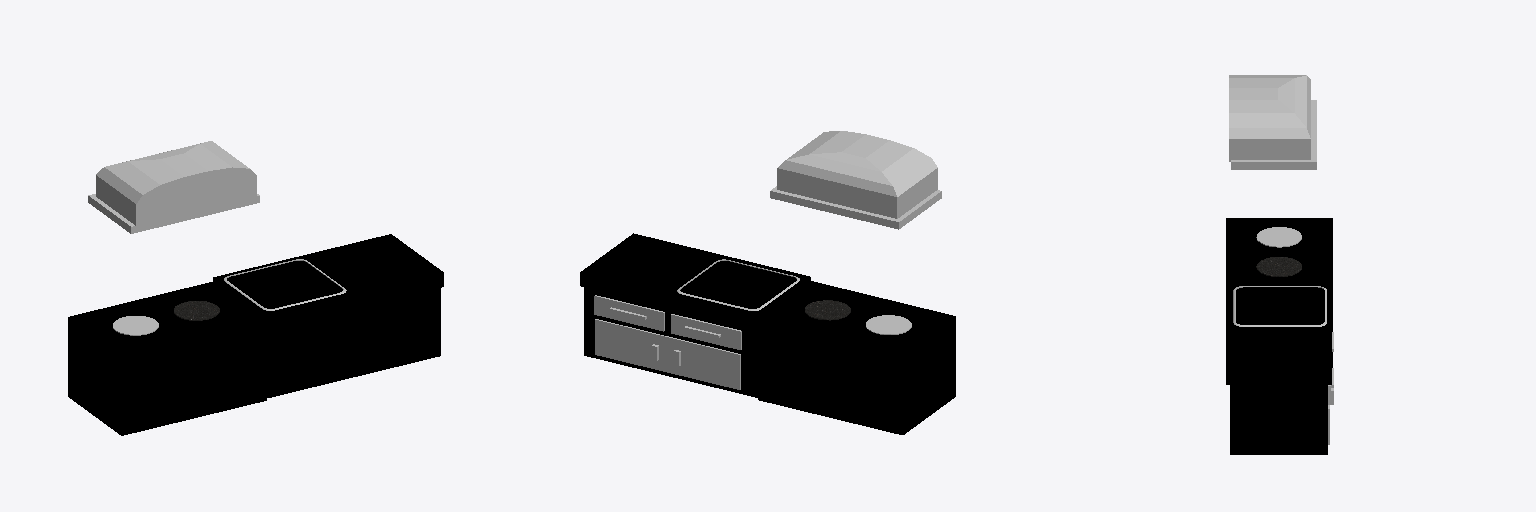
The picture shows the model from 3 angles: view 1: azimuth 30°, elevation 25°; view 2: azimuth 150°, elevation 25°; view 3: azimuth 270°, elevation 25°; orthographic projection.
Parts seen in each view (by area): view 1: polySurface1205; view 2: polySurface1205; view 3: polySurface1205.
Boxes of the visible parts, <box> form: polySurface1205: <box>68,141,443,435</box>; polySurface1205: <box>580,131,955,434</box>; polySurface1205: <box>1226,75,1333,454</box>.
Bounding box in the file's own units: 2.89 × 2.07 × 0.8395.
7 materials, 1 textured.